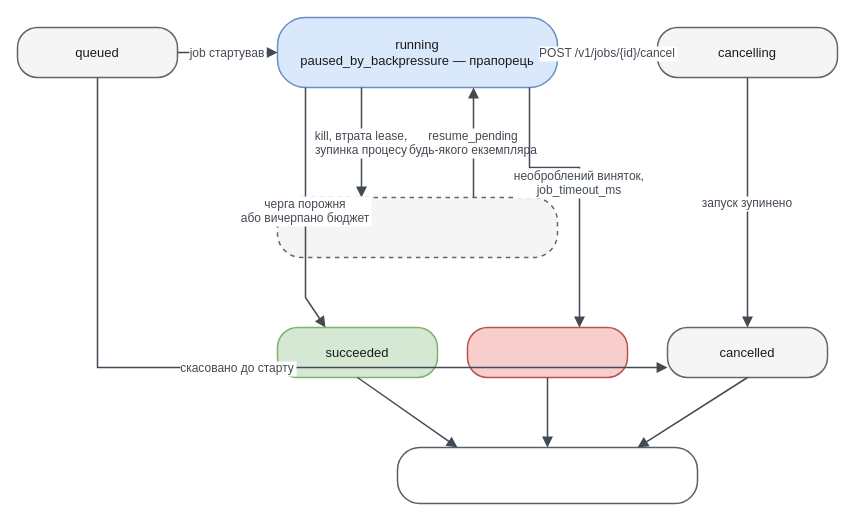
The diagram is 856 pixels wide and 522 high, and some of its shapes have lost their labels. The shapes that lost their labels are listed below. From the top down, each one's centre as x and y in pixels, then its label:
[417,227]: Без власника lease сплив
[547,352]: failed
[547,475]: Прострочено: 410 після job_retention_seconds
